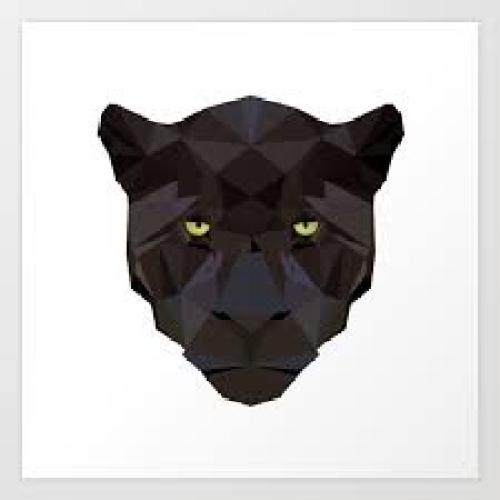panther-endangered: (93, 95, 409, 407)
